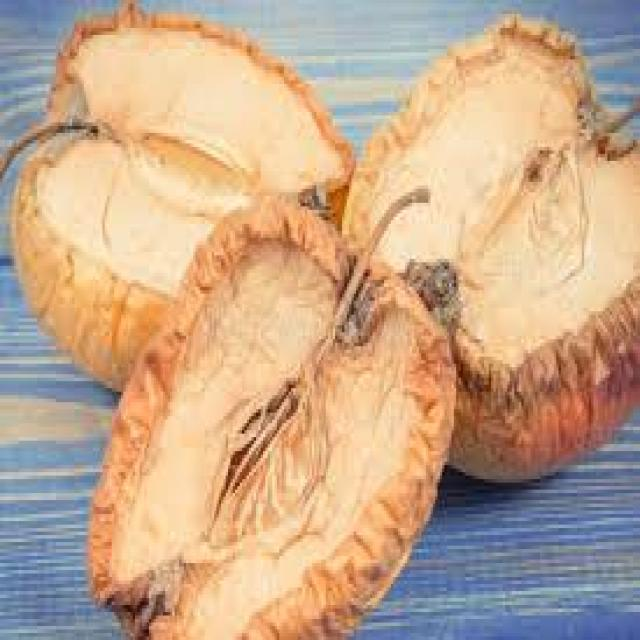organic waste: (84, 186, 454, 636), (338, 11, 638, 479), (0, 0, 354, 392)
